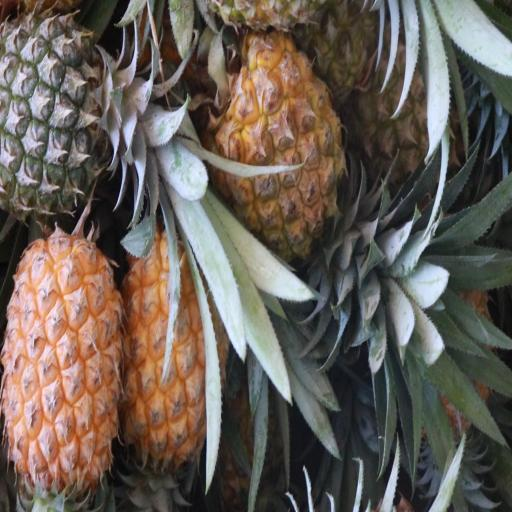------------------------------: (354, 12, 456, 177)
Pineapple - v8 v1: (4, 233, 118, 493), (218, 37, 343, 258), (117, 229, 222, 467)
